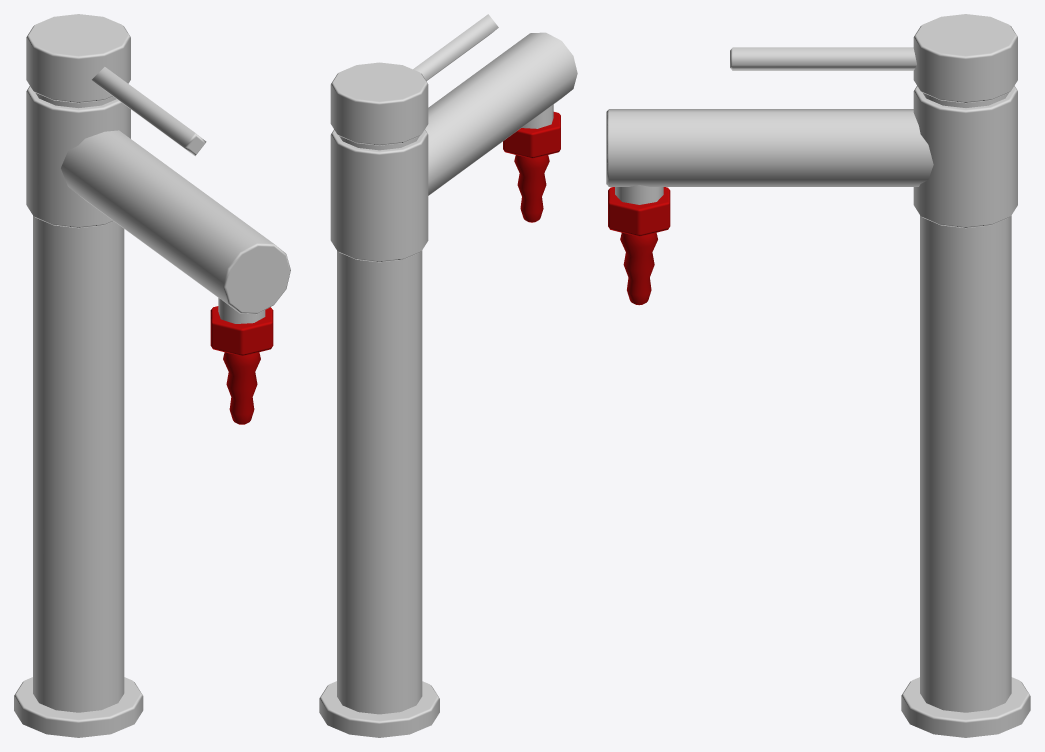
File: SinkBenchPart01.fbx
The picture shows the model from 3 angles, left to right: view 1: azimuth 30°, elevation 25°; view 2: azimuth 150°, elevation 25°; view 3: azimuth 270°, elevation 25°; orthographic projection. The views are drawn at different scales.
Parts seen in each view (by area): view 1: SinkBenchPart01; view 2: SinkBenchPart01; view 3: SinkBenchPart01.
Part boxes in pixels (box(x1,y1,x2,y2)): SinkBenchPart01: box(14, 14, 290, 737); SinkBenchPart01: box(319, 14, 577, 737); SinkBenchPart01: box(606, 14, 1030, 737).
Bounding box in the file's own units: 4.94 × 16.22 × 28.53.
